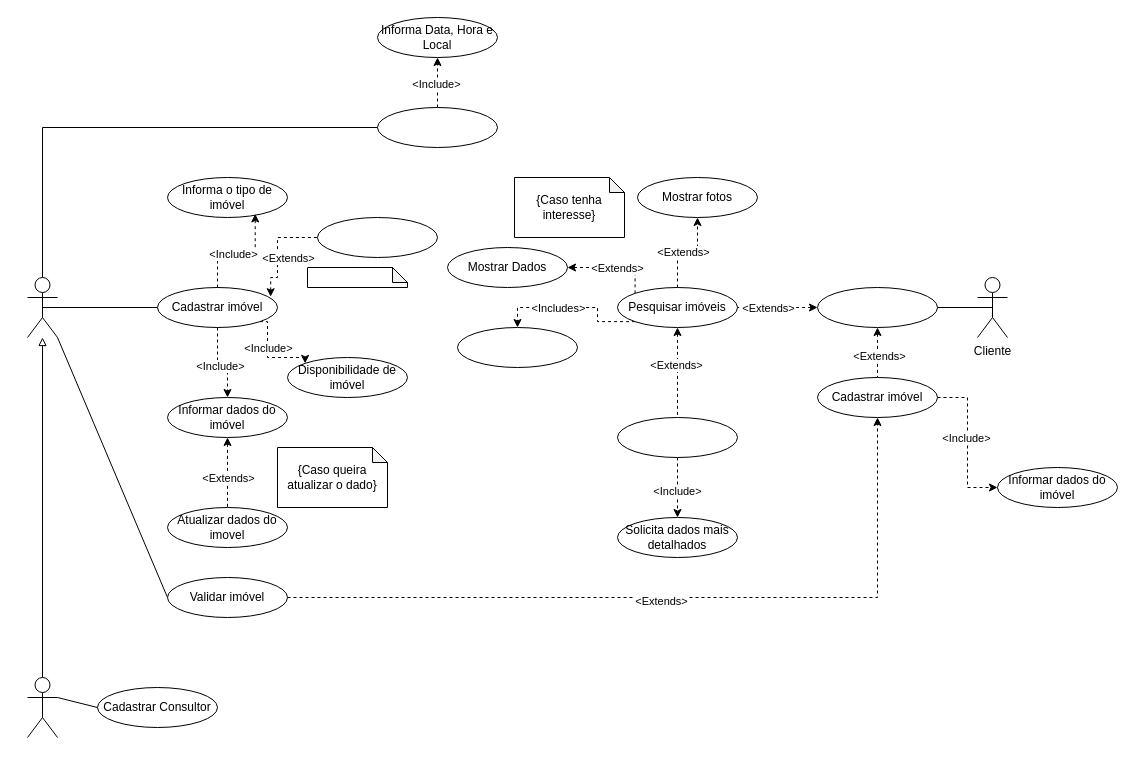
This 1135x776 diagram has some shape labels left out. Each missing label, with the centre of its shape:
"ADM" belongs at point 42,707.
"Agendar consulta" belongs at point 437,127.
"Cadastrar cliente" belongs at point 877,307.
"Consultor" belongs at point 42,307.
"Falar com consultor" belongs at point 677,437.
"Filtrar dados de pesquisa" belongs at point 517,347.
"Remover imóvel" belongs at point 377,237.
"{Caso queira}" belongs at point 357,277.
